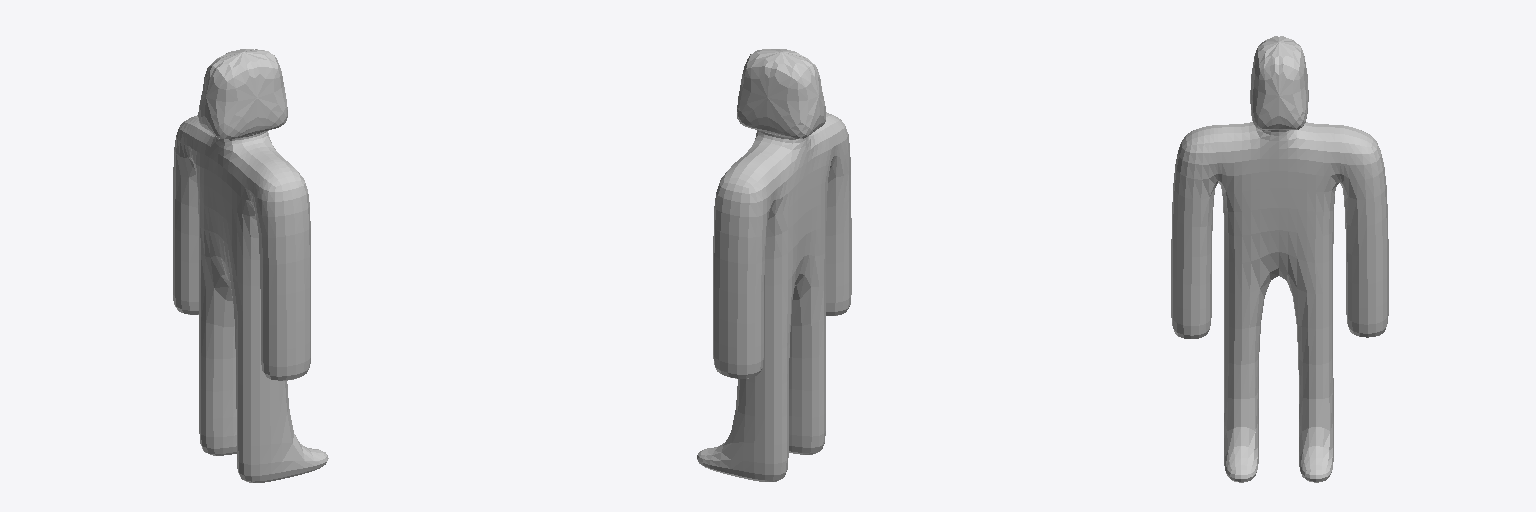
File: juku.obj
The picture shows the model from 3 angles: view 1: azimuth 30°, elevation 25°; view 2: azimuth 150°, elevation 25°; view 3: azimuth 270°, elevation 25°; orthographic projection.
Parts seen in each view (by area): view 1: Cube_Cube.001; view 2: Cube_Cube.001; view 3: Cube_Cube.001.
Boxes of the visible parts, box(x1,y1,x2,y2) form: Cube_Cube.001: box(173, 49, 328, 482); Cube_Cube.001: box(697, 49, 851, 481); Cube_Cube.001: box(1171, 36, 1388, 482).
Size of the model in its own units: 2.12 by 8.15 by 3.88.